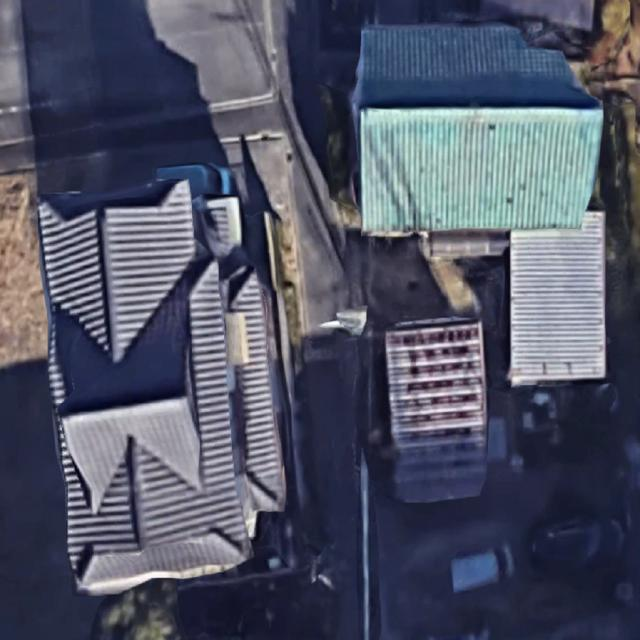Batiment: (39, 180, 286, 594), (354, 25, 602, 233), (385, 321, 486, 502), (509, 211, 605, 386)
